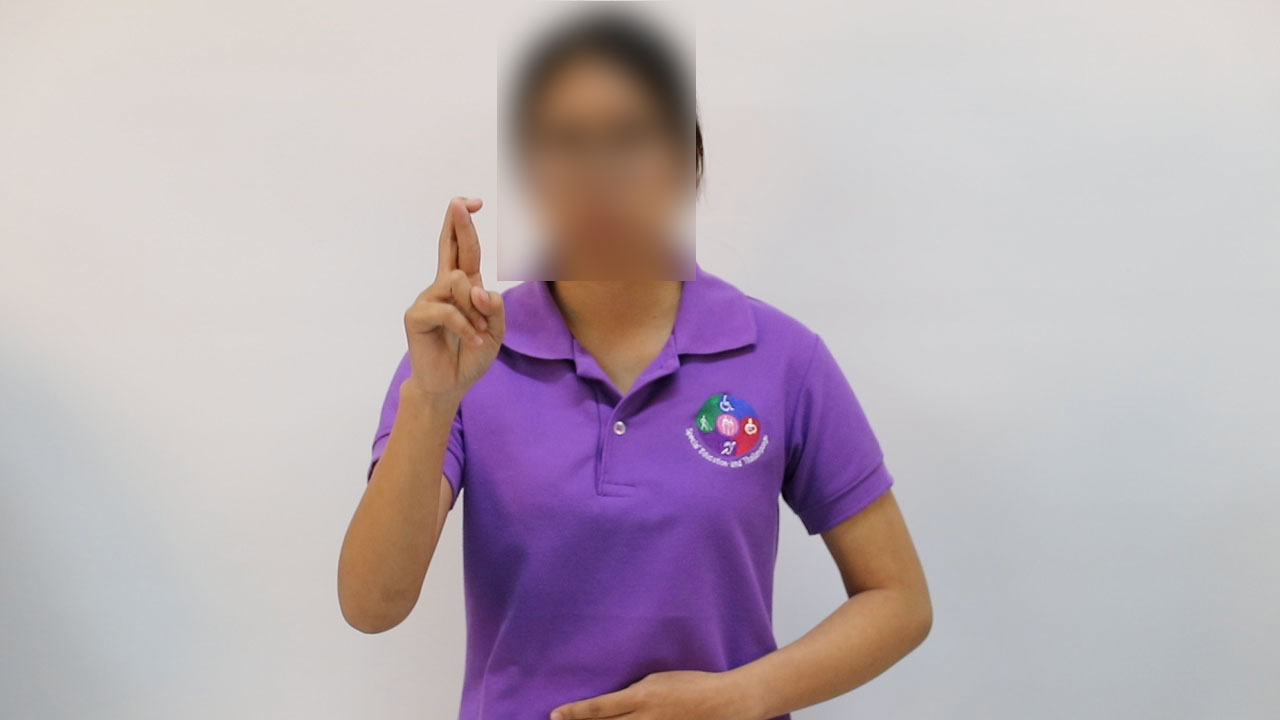rao: (384, 192, 511, 418)
